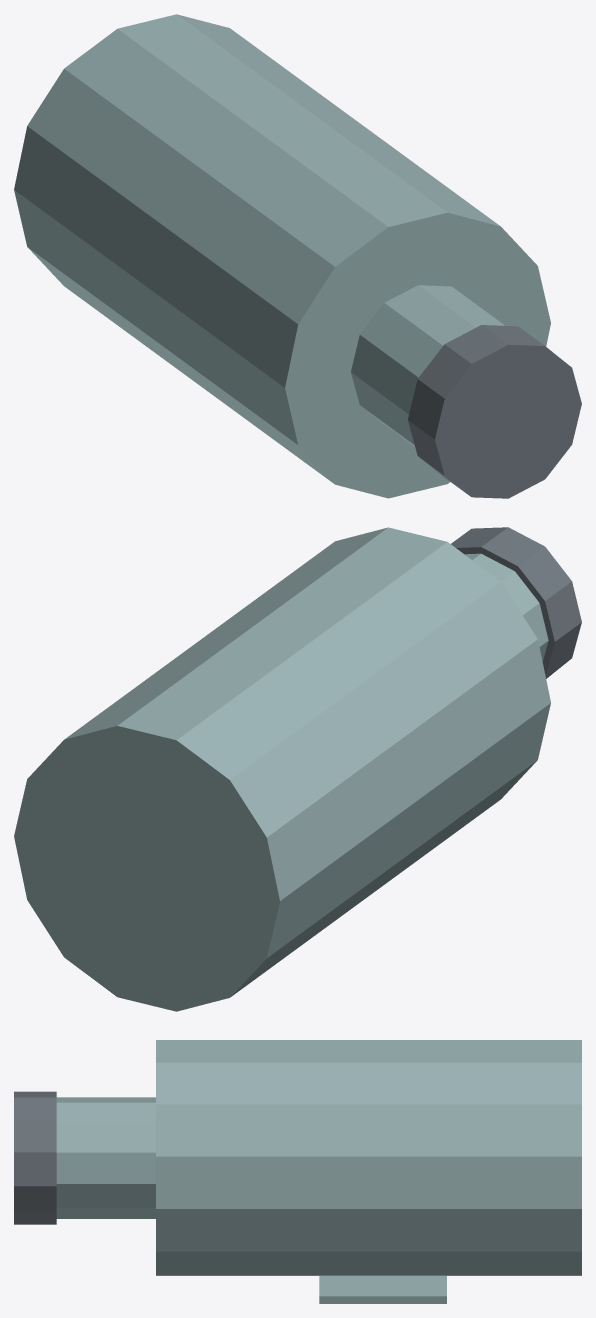
File: bottle_empty.glb
The picture shows the model from 3 angles, top to bottom: view 1: azimuth 30°, elevation 25°; view 2: azimuth 150°, elevation 25°; view 3: azimuth 270°, elevation 25°; orthographic projection. The views are drawn at different scales.
Visible parts, largest first — view 1: 00_empty_bottle, 02_lip, 01_neck; view 2: 00_empty_bottle, 02_lip, 01_neck; view 3: 00_empty_bottle, 01_neck, 02_lip, 03_reflection.
Boxes of the visible parts, left/top/right/bottom form: 00_empty_bottle: left=14, top=14, right=550, bottom=498; 02_lip: left=408, top=325, right=581, bottom=498; 01_neck: left=351, top=285, right=504, bottom=446; 00_empty_bottle: left=14, top=527, right=550, bottom=1011; 02_lip: left=451, top=527, right=581, bottom=678; 01_neck: left=465, top=553, right=548, bottom=661; 00_empty_bottle: left=156, top=1040, right=581, bottom=1275; 01_neck: left=56, top=1097, right=155, bottom=1218; 02_lip: left=14, top=1091, right=56, bottom=1224; 03_reflection: left=319, top=1276, right=446, bottom=1303.
Size of the model in its own units: 0.17 by 0.1729 by 0.4.
